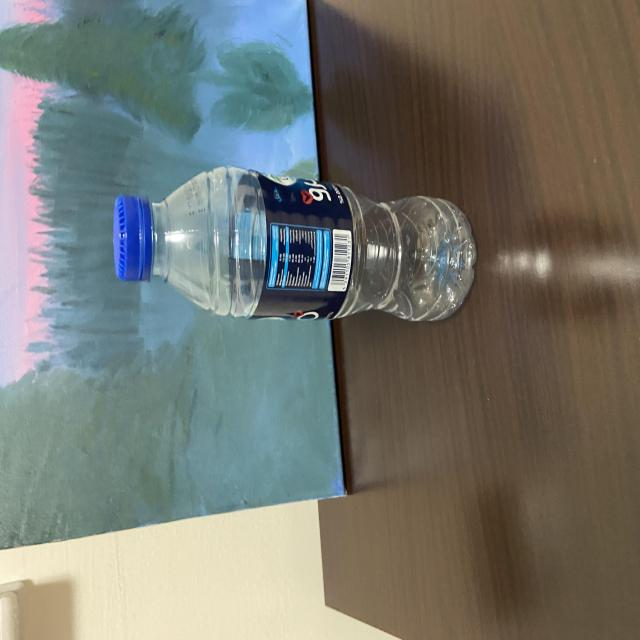plastic: (112, 163, 478, 328)
